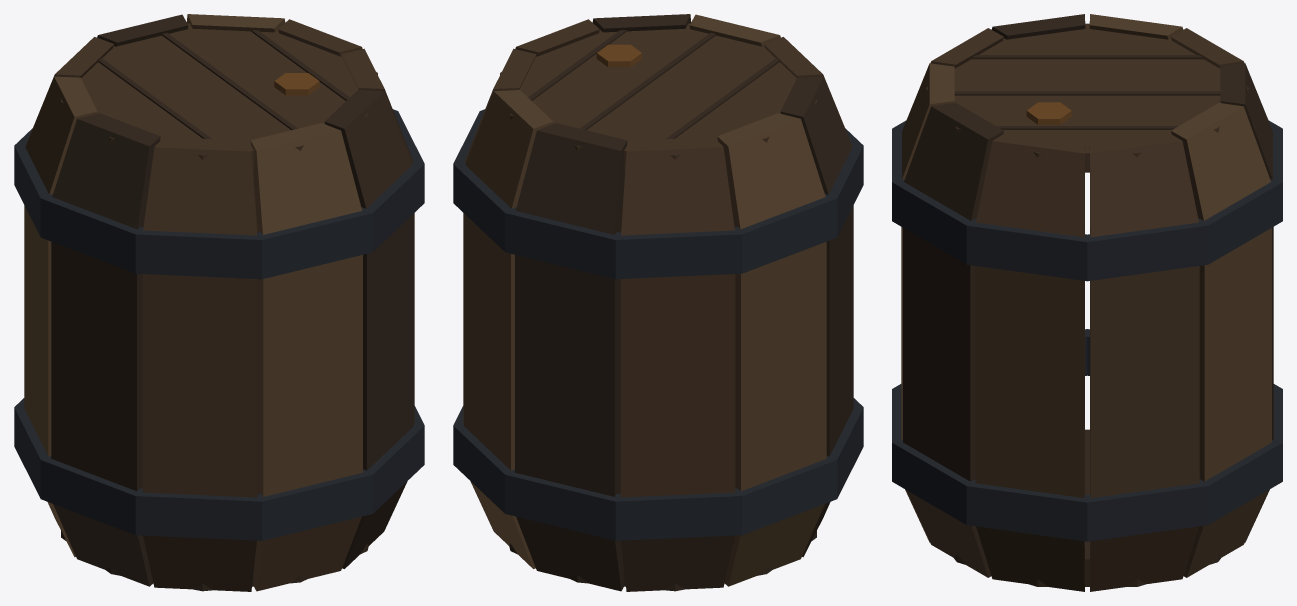
File: Barrel.glb
3 views of the same model, side by side, from view 1: azimuth 30°, elevation 25°; view 2: azimuth 150°, elevation 25°; view 3: azimuth 270°, elevation 25° (orthographic).
Parts seen in each view (by area): view 1: Barrel; view 2: Barrel; view 3: Barrel.
Part boxes in pixels (x1,y1,x2,y2): Barrel: [14, 14, 424, 591]; Barrel: [453, 14, 863, 591]; Barrel: [892, 14, 1282, 591].
Bounding box in the file's own units: 0.858 × 1.01 × 0.816.
